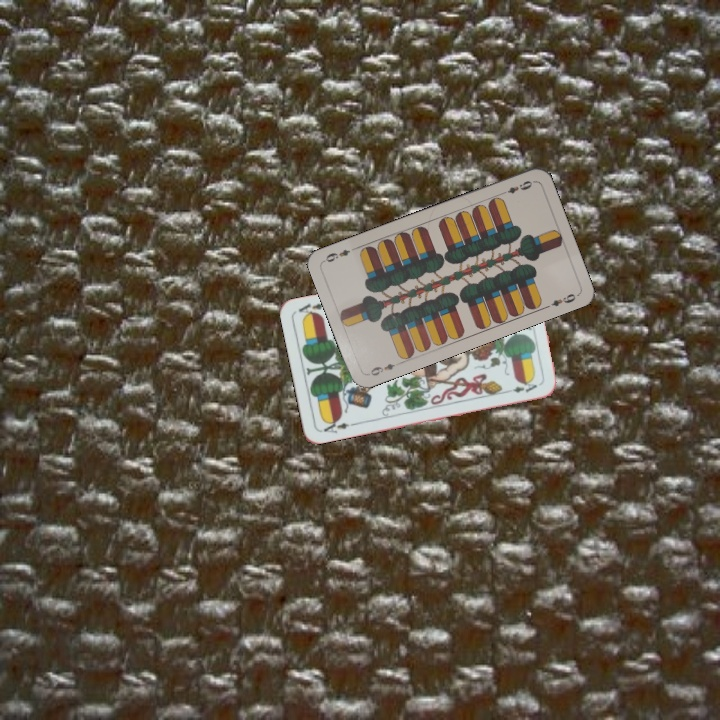E9: (497, 176, 536, 198), (366, 359, 398, 378)
EA: (319, 415, 358, 436)
